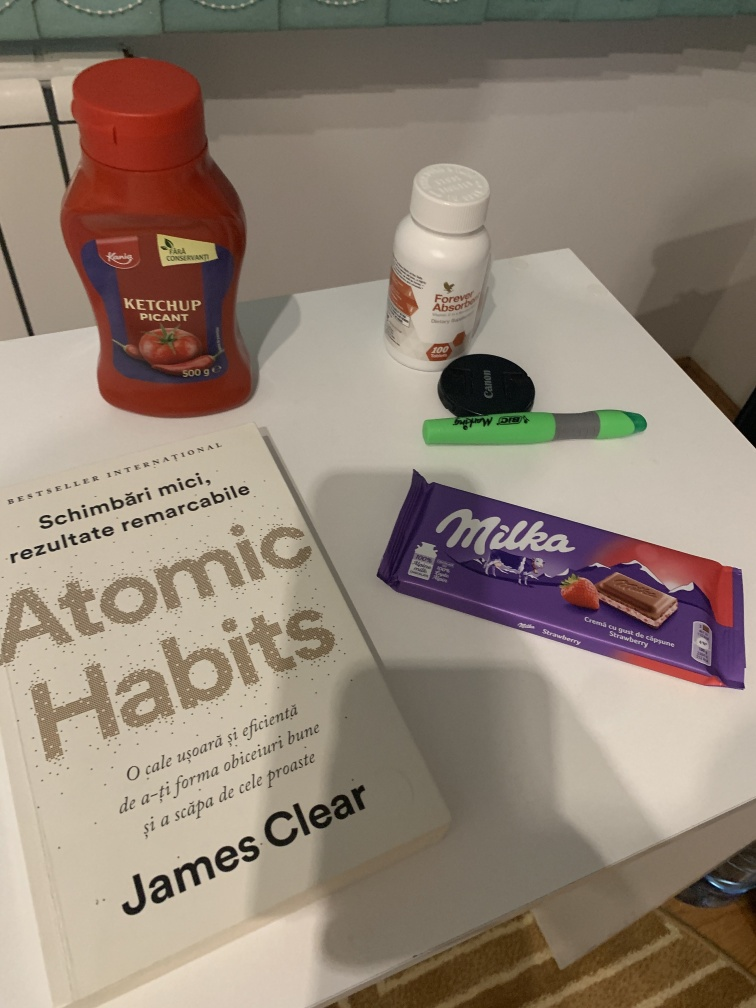ketchup: (53, 53, 298, 416)
milka: (369, 467, 748, 712)
